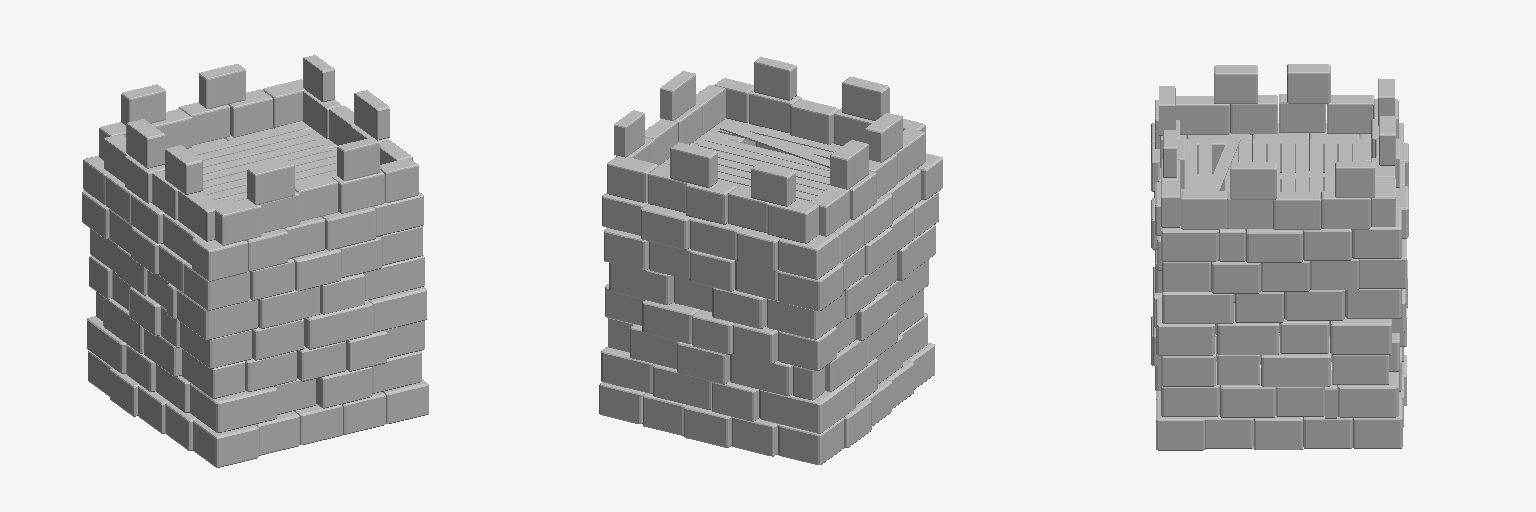
Rendered from Tower Game-Ready Piece.obj.
3 renders of one model, left to right at view 1: azimuth 30°, elevation 25°; view 2: azimuth 150°, elevation 25°; view 3: azimuth 270°, elevation 25°, orthographic.
Visible parts, largest first — view 1: tower; view 2: tower; view 3: tower.
Part boxes in pixels (left/top/right/bottom): tower: left=82, top=55, right=428, bottom=467; tower: left=599, top=57, right=942, bottom=464; tower: left=1151, top=64, right=1408, bottom=450.
Bounding box in the file's own units: 1.38 × 1.64 × 1.36.